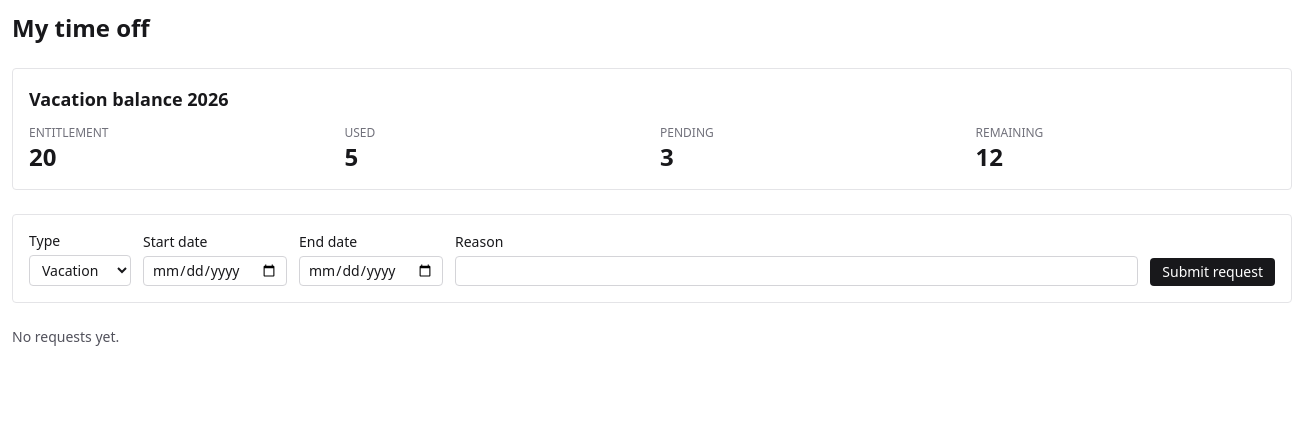
Test: new request form (T4) › empty form is sent as is and the backend detail is shown (L31.1)
Expected: the text "No requests yet." is shown, left=12, top=327, right=119, bottom=346
Click the button "Submit request" at point(1213, 272), box left=1150, top=258, right=1275, bottom=286
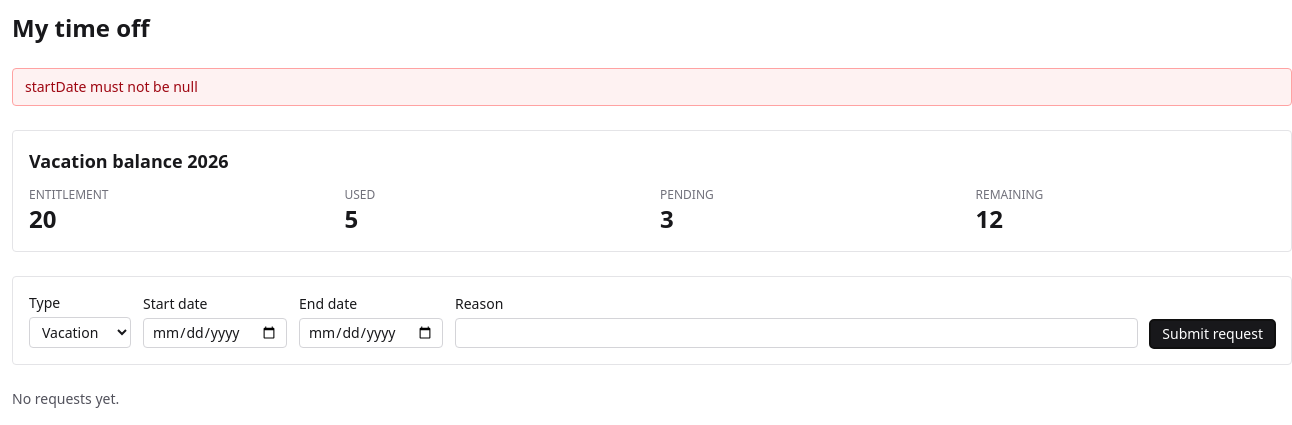
Expected: the message reads "startDate must not be null", left=25, top=77, right=198, bottom=96
